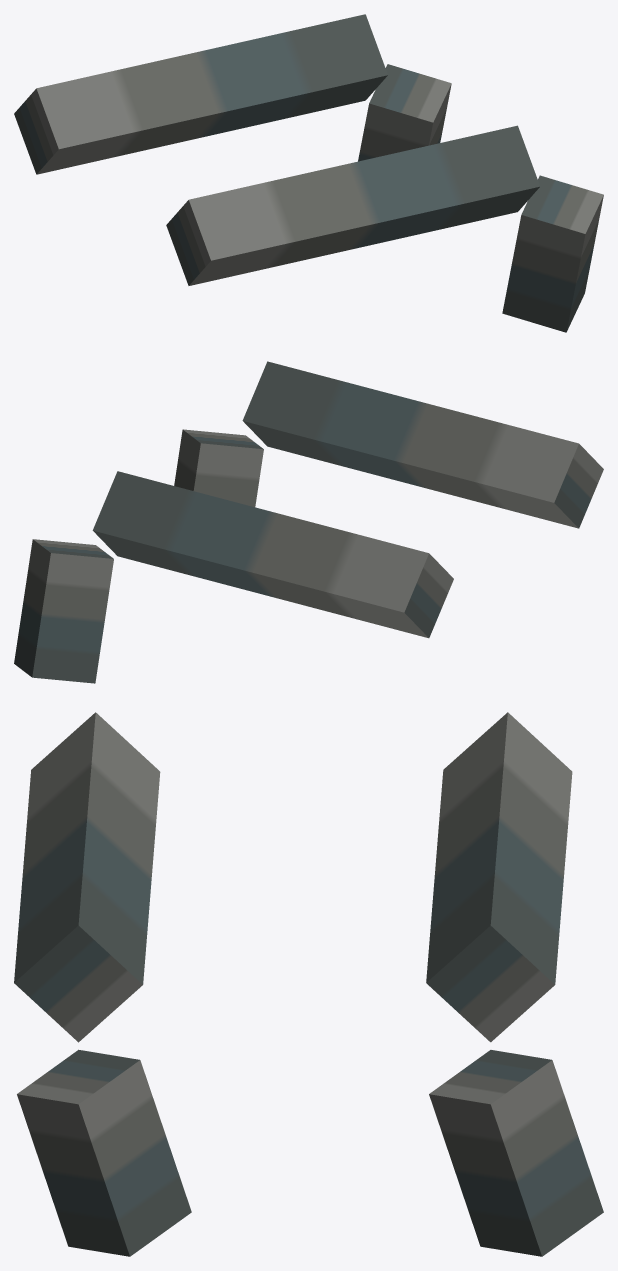
File: pz_native_electrical_196.obj
3 renders of one model, top to bottom at view 1: azimuth 30°, elevation 25°; view 2: azimuth 150°, elevation 25°; view 3: azimuth 270°, elevation 25°, orthographic. The views are drawn at different scales.
Visible parts, largest first — view 1: conduit, conduit_end; view 2: conduit, conduit_end; view 3: conduit, conduit_end.
Part boxes in pixels (box(x1,y1,x2,y2)): conduit: box(36, 14, 603, 332); conduit_end: box(14, 64, 603, 285); conduit: box(14, 361, 578, 683); conduit_end: box(33, 429, 603, 637); conduit: box(14, 712, 603, 1256); conduit_end: box(14, 925, 554, 1104).
Bounding box in the file's own units: 0.1192 × 0.0598 × 0.1096.
Materials: 1 (1 with a texture image).
